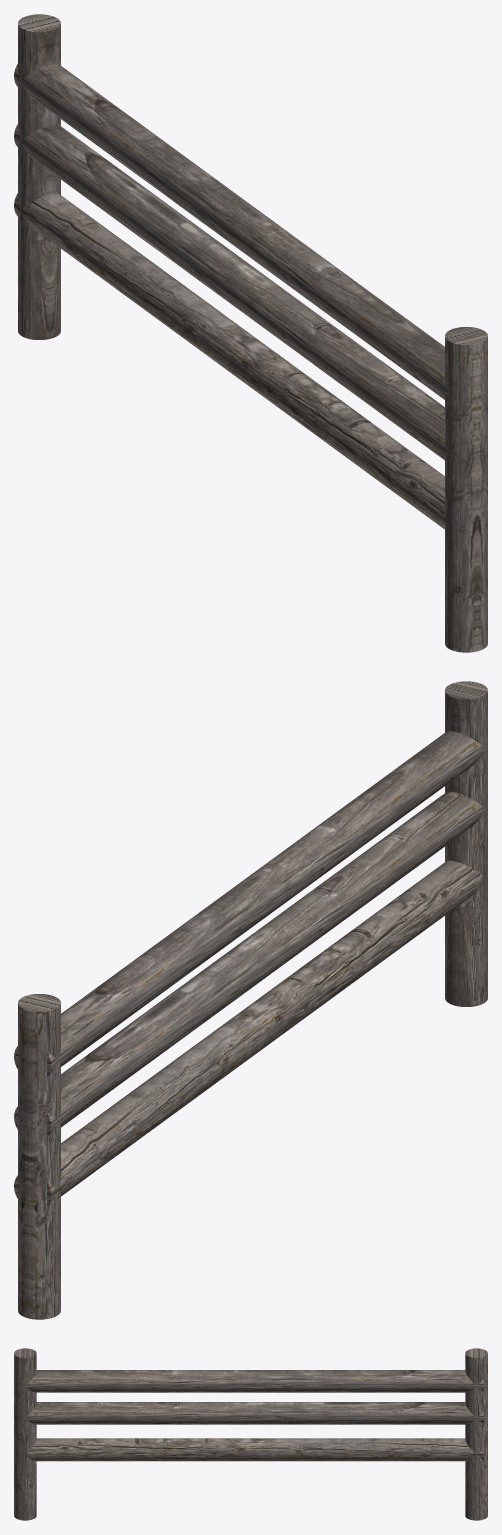
File: aita3.fbx
3 views of the same model, one above another, from view 1: azimuth 30°, elevation 25°; view 2: azimuth 150°, elevation 25°; view 3: azimuth 270°, elevation 25° (orthographic). The views are drawn at different scales.
Parts seen in each view (by area): view 1: Cylinder.009; view 2: Cylinder.009; view 3: Cylinder.009.
Boxes of the visible parts, x1,y1,x2,y2 form: Cylinder.009: (14, 14, 487, 652); Cylinder.009: (14, 681, 487, 1319); Cylinder.009: (14, 1348, 487, 1520).
Size of the model in its own units: 37.79 by 298 by 787.
